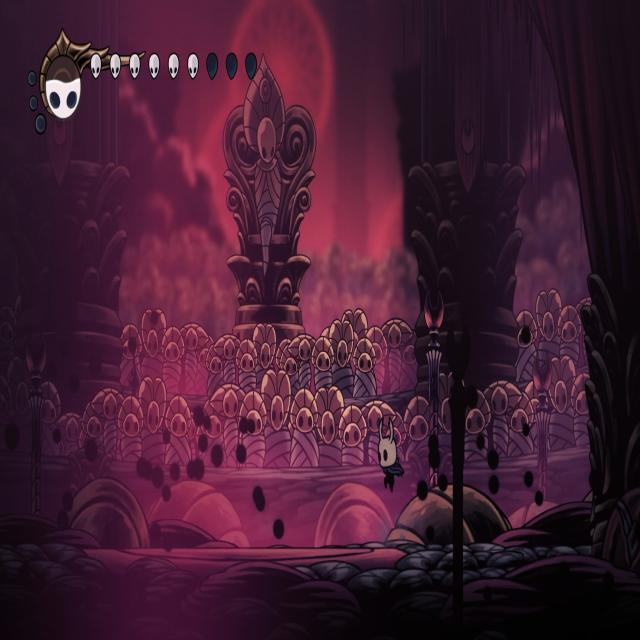Player: (375, 411, 408, 498)
